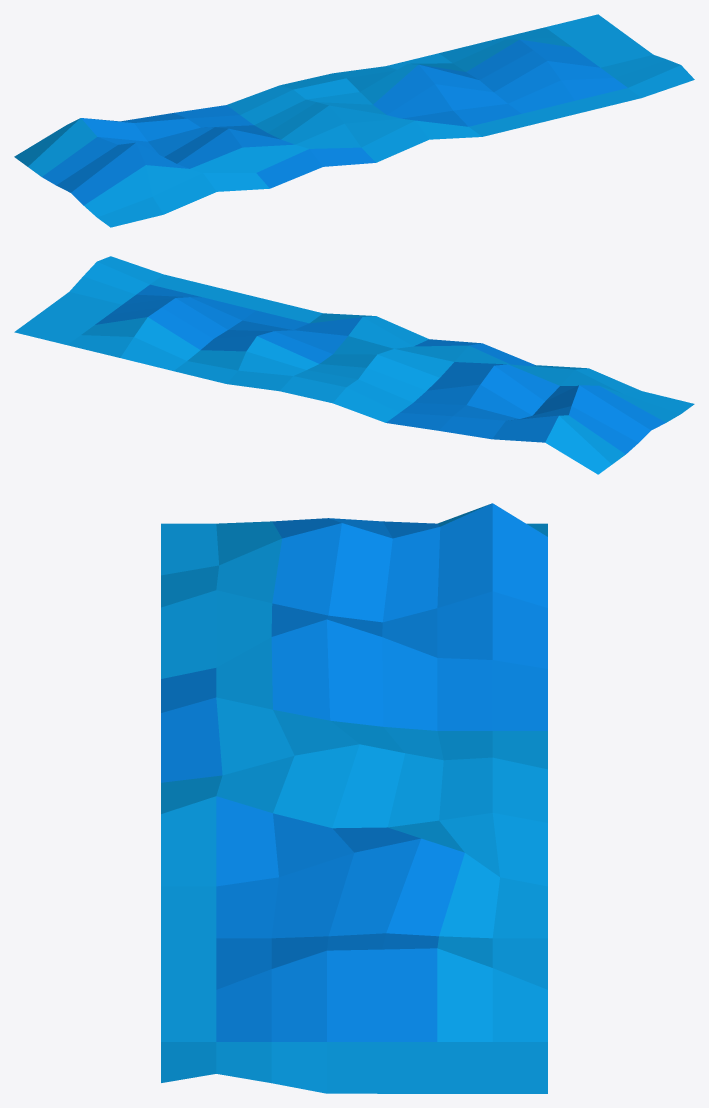
Rendered from SeaWater.fbx.
The picture shows the model from 3 angles, top to bottom: view 1: azimuth 30°, elevation 25°; view 2: azimuth 150°, elevation 25°; view 3: azimuth 270°, elevation 25°; orthographic projection. The views are drawn at different scales.
Visible parts, largest first — view 1: Plane; view 2: Plane; view 3: Plane.
Boxes of the visible parts, box(x1,y1,x2,y2) form: Plane: box(14, 14, 694, 227); Plane: box(14, 256, 694, 474); Plane: box(161, 503, 547, 1093).
Bounding box in the file's own units: 13948 × 824 × 4000.
